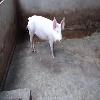heo: (26, 13, 65, 60)
